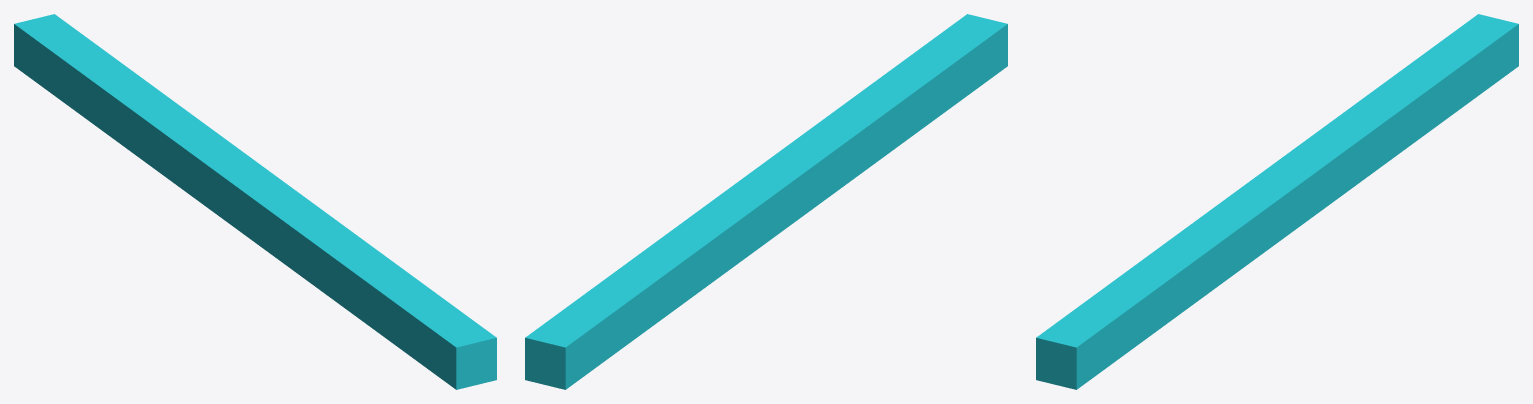
3 views of the same model, side by side, from view 1: azimuth 30°, elevation 25°; view 2: azimuth 150°, elevation 25°; view 3: azimuth 330°, elevation 25° (orthographic).
Visible parts, largest first — view 1: Skybox; view 2: Skybox; view 3: Skybox.
Boxes of the visible parts, left/top/right/bottom form: Skybox: left=14, top=14, right=496, bottom=389; Skybox: left=525, top=14, right=1007, bottom=389; Skybox: left=1036, top=14, right=1518, bottom=389.
Bounding box in the file's own units: 52.16 × 52.16 × 987.
